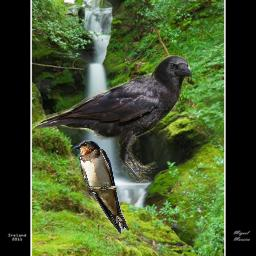Crow: (28, 55, 191, 184)
Swallow: (73, 140, 129, 234)
